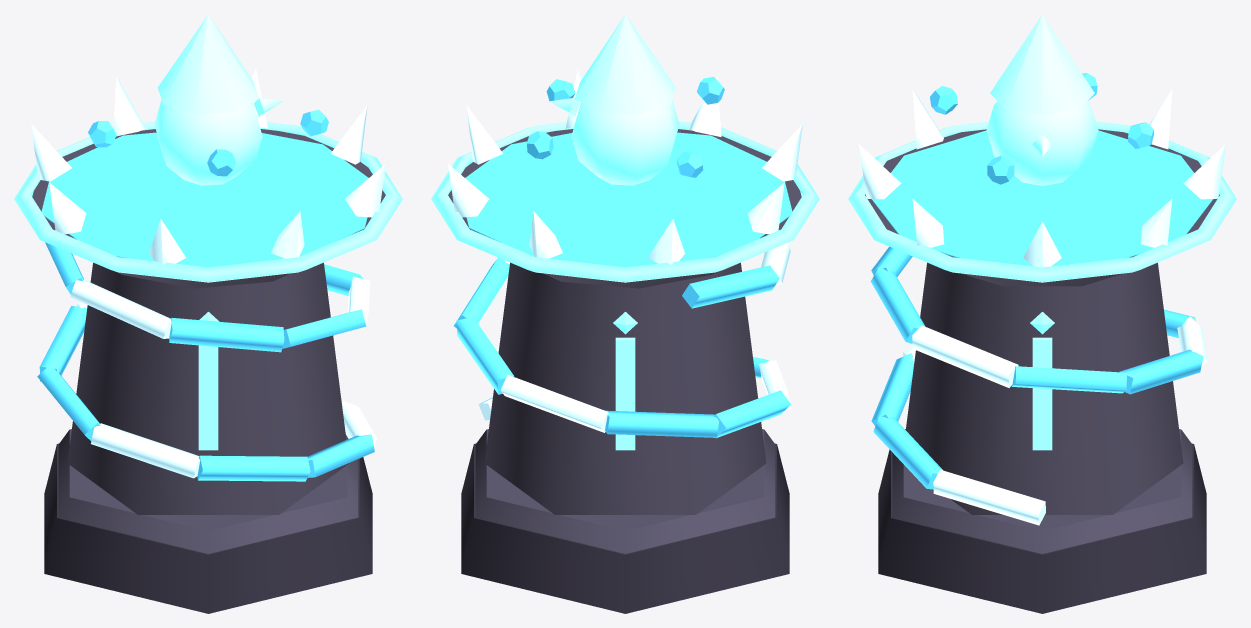
File: tower_element_elementTide.glb
3 views of the same model, side by side, from view 1: azimuth 30°, elevation 25°; view 2: azimuth 150°, elevation 25°; view 3: azimuth 270°, elevation 25° (orthographic).
Visible parts, largest first — view 1: pillar, basin_water, base, base_top, basin_rim, crystal, crystal_tip, tide_spiral_11, tide_spiral_2, tide_spiral_3, tide_spiral_12, basin (+19 smaller); view 2: pillar, basin_water, base, base_top, basin_rim, crystal, crystal_tip, tide_spiral_5, tide_spiral_6, tide_spiral_13, basin, rune_1 (+15 smaller); view 3: pillar, basin_water, base, base_top, basin_rim, crystal, crystal_tip, tide_spiral_0, tide_spiral_9, tide_spiral_8, basin, tide_spiral_1 (+16 smaller).
Part boxes in pixels (box(x1,y1,x2,y2)): pillar: box(67, 262, 349, 514); basin_water: box(41, 132, 368, 267); base: box(44, 443, 372, 613); base_top: box(58, 429, 358, 553); basin_rim: box(14, 121, 402, 282); crystal: box(154, 100, 262, 185); crystal_tip: box(158, 14, 258, 114); tide_spiral_11: box(169, 318, 284, 352); tide_spiral_2: box(197, 455, 310, 481); tide_spiral_3: box(91, 423, 200, 478); tide_spiral_12: box(70, 279, 171, 338); basin: box(32, 129, 385, 288); pillar: box(484, 262, 766, 514); basin_water: box(465, 132, 792, 267); base: box(461, 443, 789, 613); base_top: box(475, 429, 775, 553); basin_rim: box(431, 121, 819, 282); crystal: box(571, 100, 679, 185); crystal_tip: box(575, 14, 675, 114); tide_spiral_5: box(605, 410, 719, 437); tide_spiral_6: box(500, 375, 608, 432); tide_spiral_13: box(682, 265, 779, 308); basin: box(448, 129, 801, 288); rune_1: box(615, 337, 635, 450); pillar: box(901, 262, 1183, 514); basin_water: box(871, 130, 1213, 266); base: box(878, 443, 1206, 613); base_top: box(892, 429, 1192, 553); basin_rim: box(848, 121, 1236, 282); crystal: box(986, 101, 1098, 185); crystal_tip: box(990, 14, 1094, 115); tide_spiral_0: box(933, 469, 1045, 525); tide_spiral_9: box(912, 325, 1018, 387); tide_spiral_8: box(1011, 366, 1126, 393); basin: box(865, 129, 1219, 286); tide_spiral_1: box(873, 416, 943, 489).
Size of the model in its own units: 0.4 by 0.59 by 0.4.
